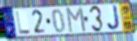0: (51, 8, 67, 33)
2: (31, 9, 47, 35)
3: (88, 5, 104, 33)
J: (106, 4, 122, 32)
L: (15, 10, 31, 35)
M: (66, 6, 87, 35)
